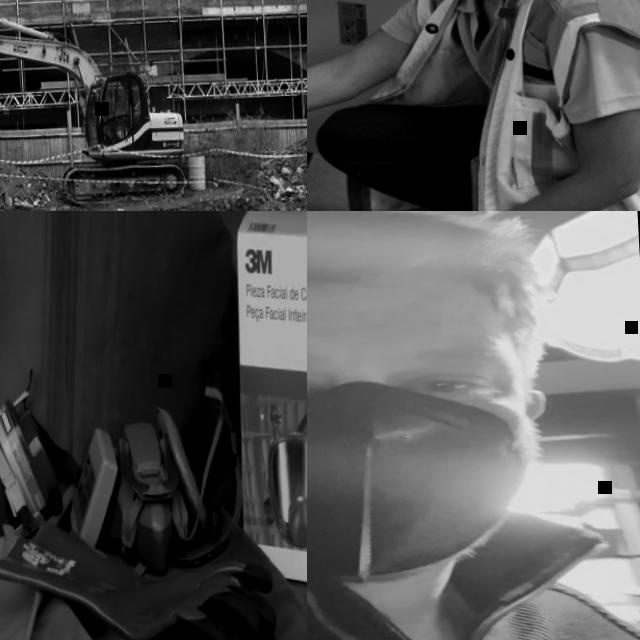Mask: (307, 387, 540, 591), (61, 399, 213, 578), (0, 391, 65, 559)
NO-Hardhat: (307, 211, 540, 326)
NO-Safety Vest: (307, 521, 640, 640)
Person: (307, 211, 640, 640), (307, 0, 640, 211)
Safety Vest: (330, 0, 640, 211)
machinery: (0, 0, 189, 211)
